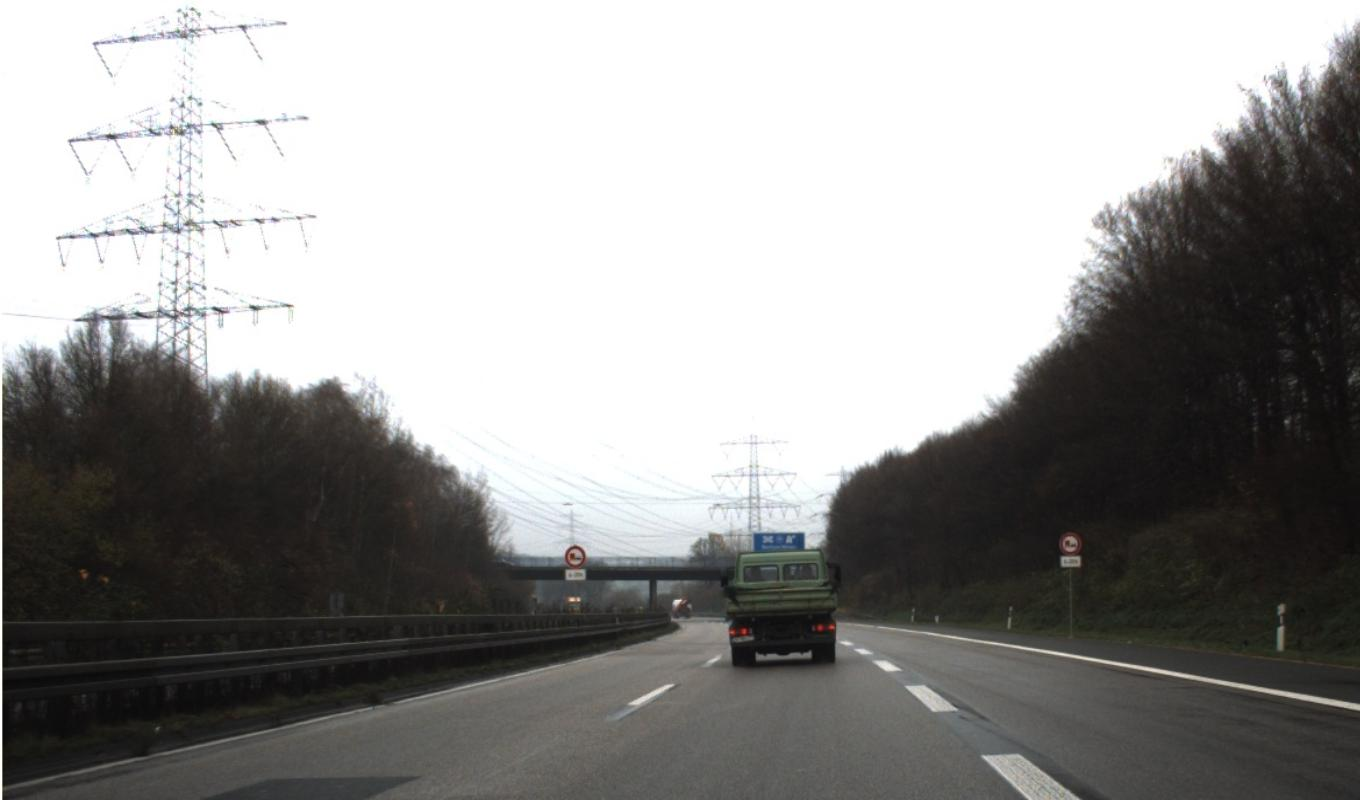no overtaking (trucks): (563, 530, 1083, 569)
